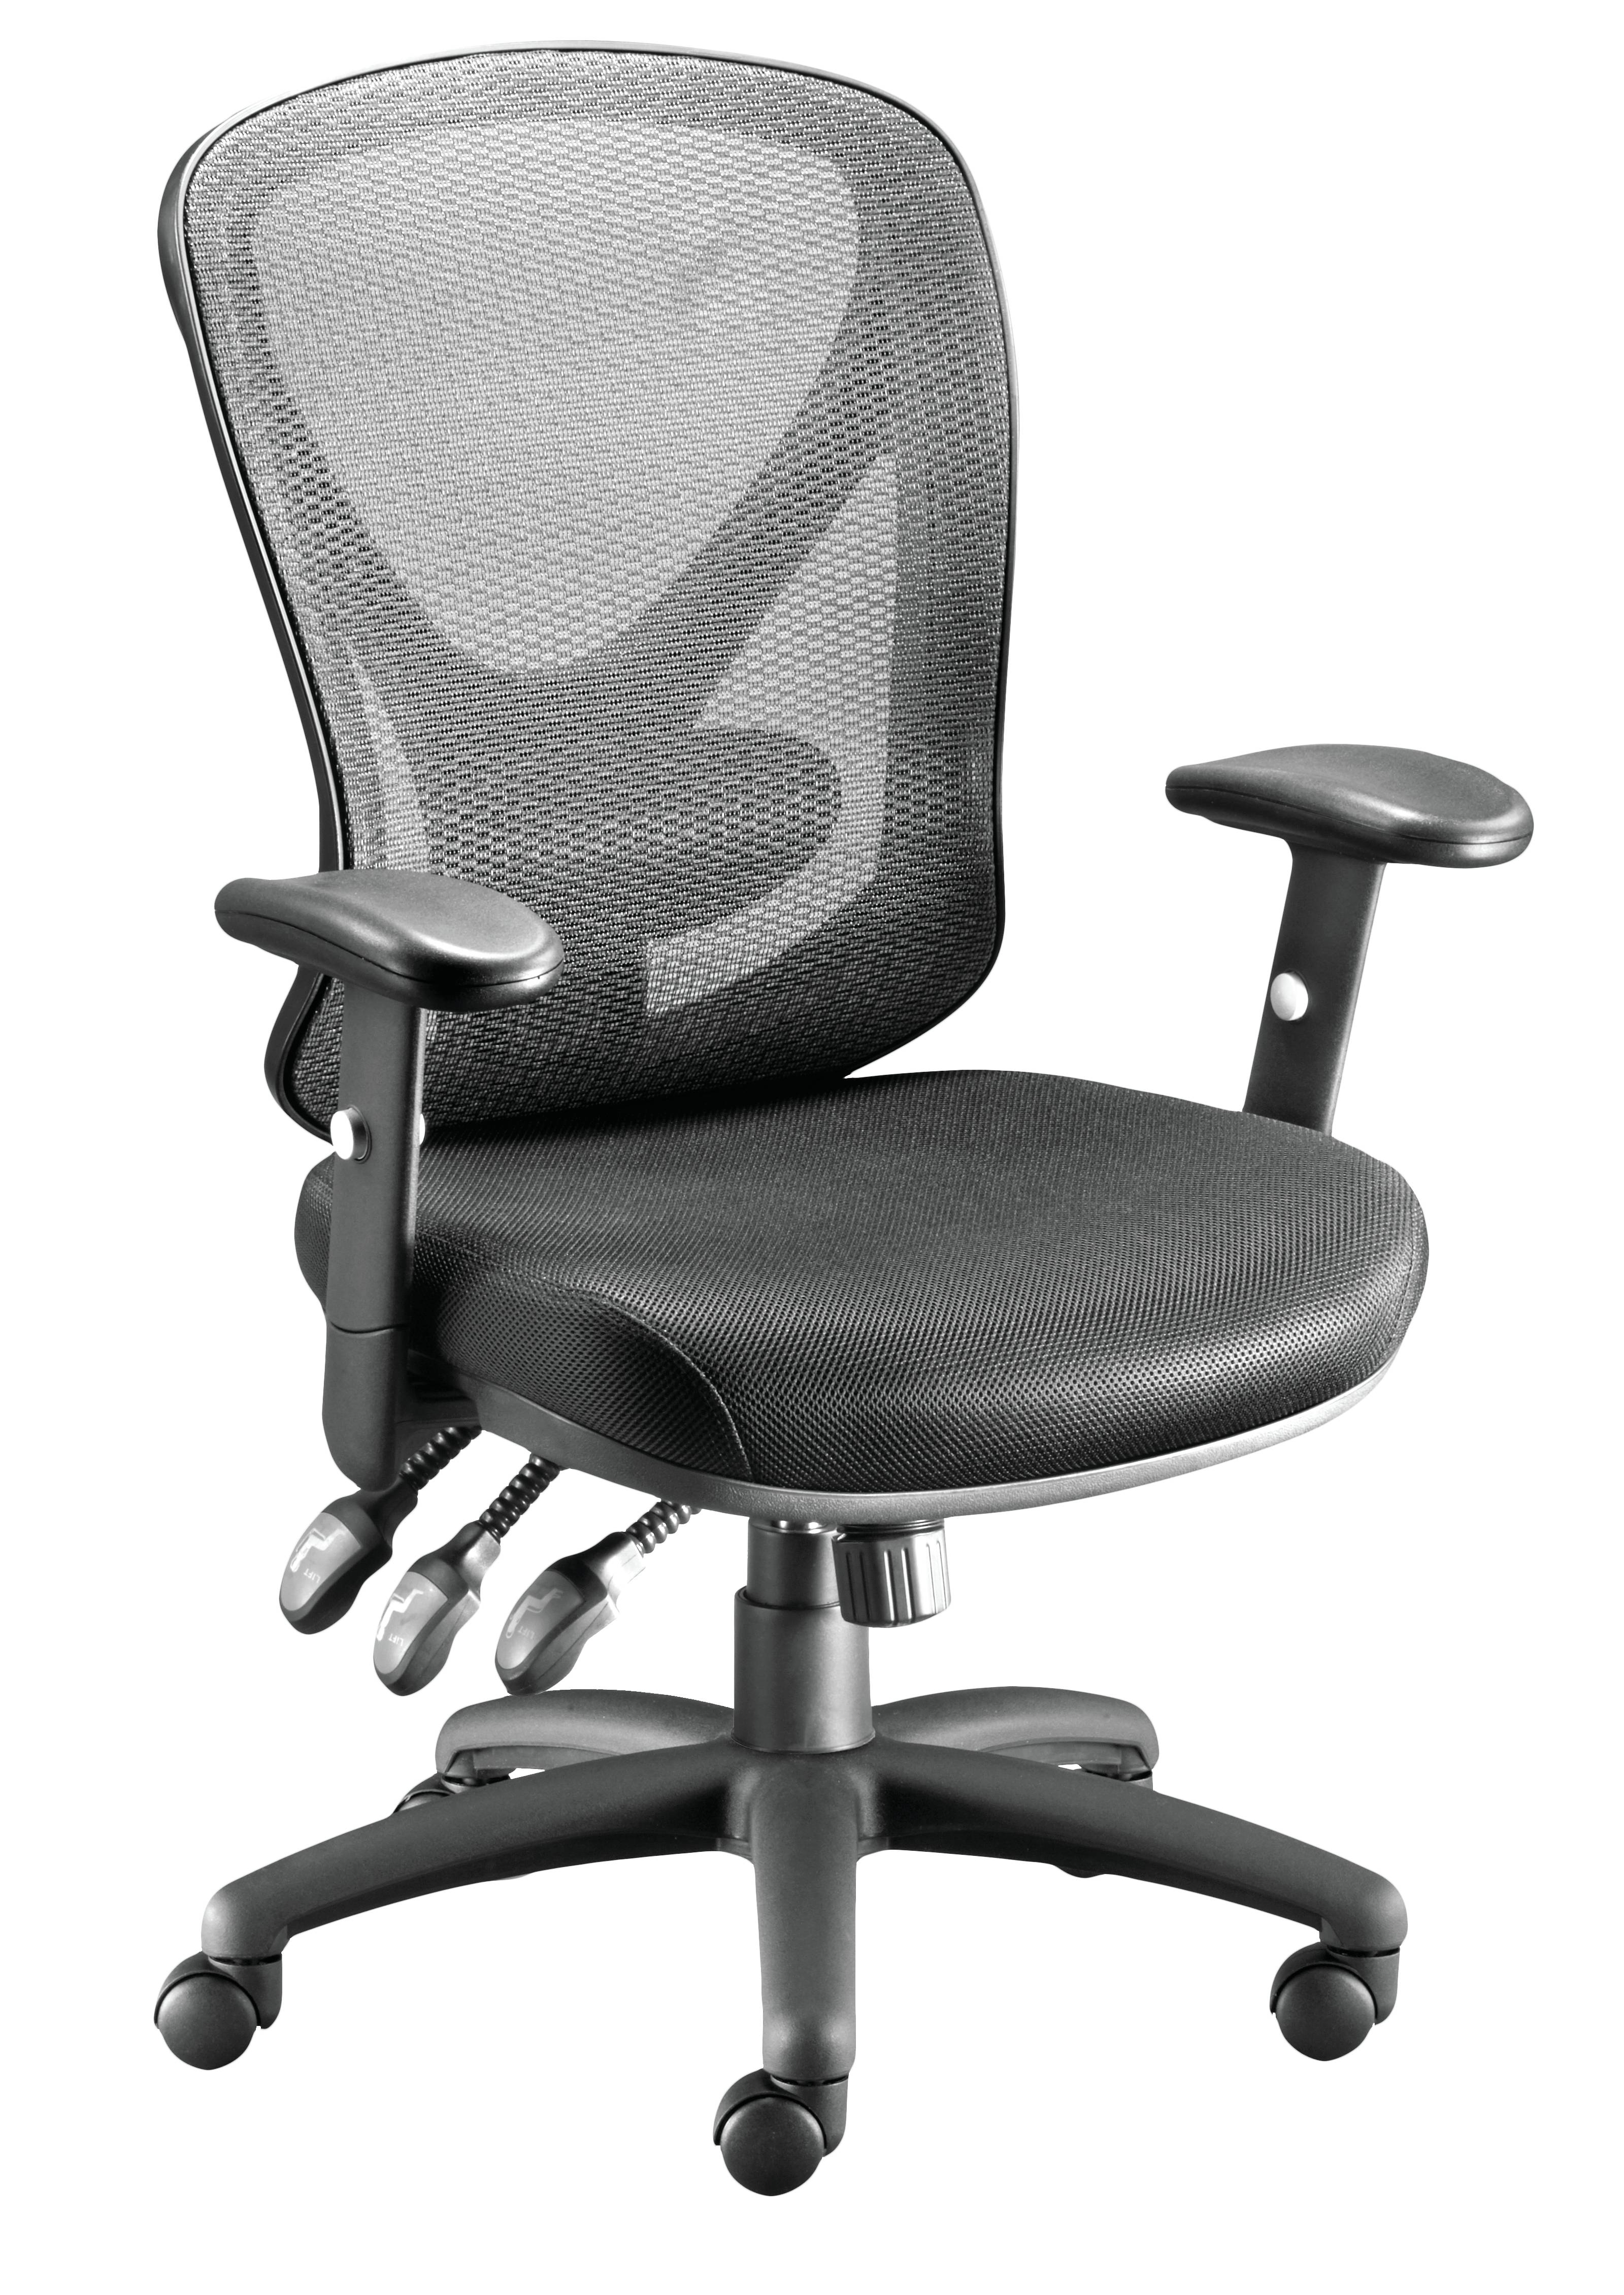chairs: (118, 40, 1533, 2223)
